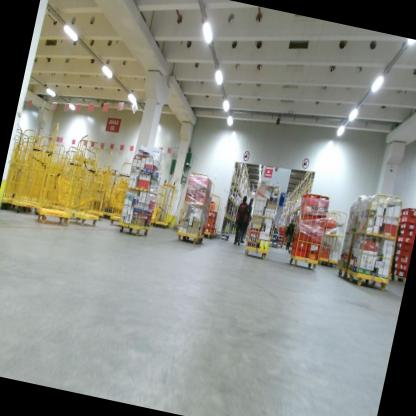pallet: (385, 272, 406, 284), (266, 240, 279, 250), (281, 240, 289, 247)
small_load_carrier: (301, 192, 320, 209), (196, 174, 214, 191), (194, 188, 212, 205), (398, 218, 416, 233), (288, 245, 307, 259), (289, 237, 309, 250), (299, 201, 317, 215), (297, 210, 314, 224), (399, 212, 416, 226), (294, 227, 312, 240), (397, 225, 415, 238), (395, 238, 413, 251), (392, 251, 410, 264), (183, 186, 197, 202), (400, 206, 416, 220), (395, 233, 413, 245), (316, 195, 331, 209), (295, 220, 312, 232), (393, 247, 411, 258), (186, 173, 199, 188), (305, 249, 320, 262), (391, 266, 407, 278), (314, 207, 328, 219), (311, 216, 323, 230), (392, 260, 408, 270), (309, 232, 322, 244), (324, 217, 338, 228), (307, 242, 322, 252), (321, 243, 332, 254), (319, 251, 330, 261), (204, 221, 215, 230), (206, 215, 217, 223), (207, 211, 218, 217), (208, 206, 216, 213), (204, 228, 213, 234), (212, 226, 218, 235), (278, 225, 287, 231), (209, 199, 215, 207), (278, 229, 285, 235), (277, 236, 284, 241), (276, 240, 283, 245), (278, 234, 284, 237)
